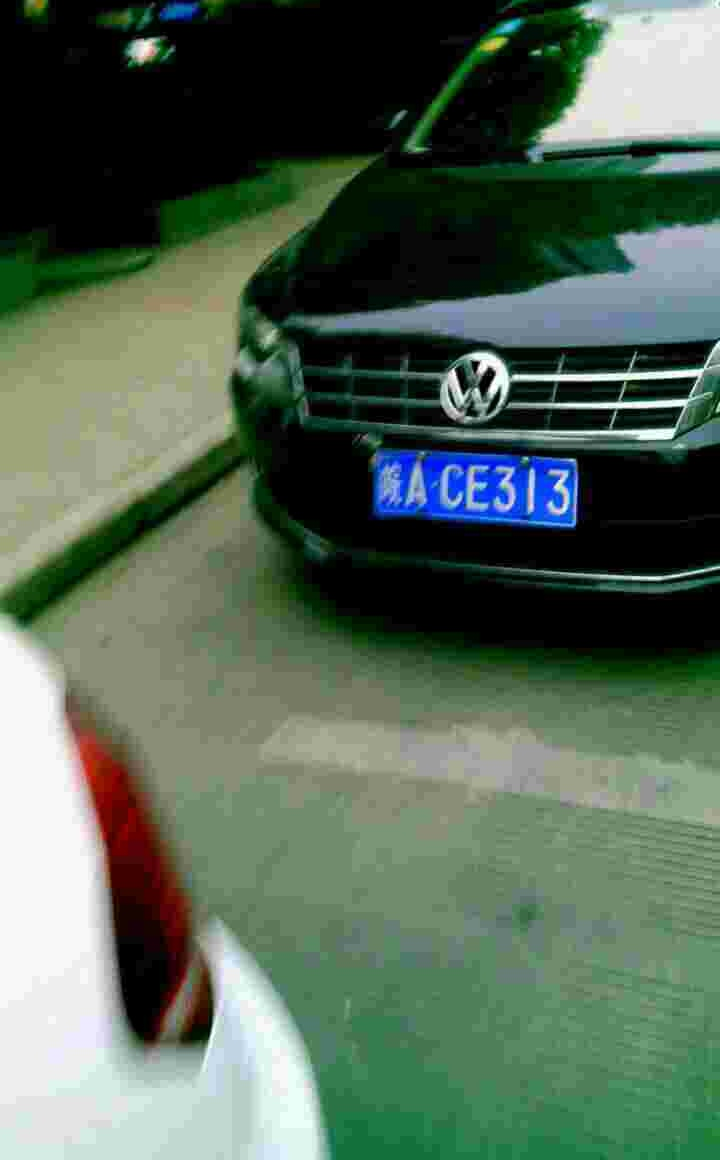license_plate: (374, 445, 582, 534)
